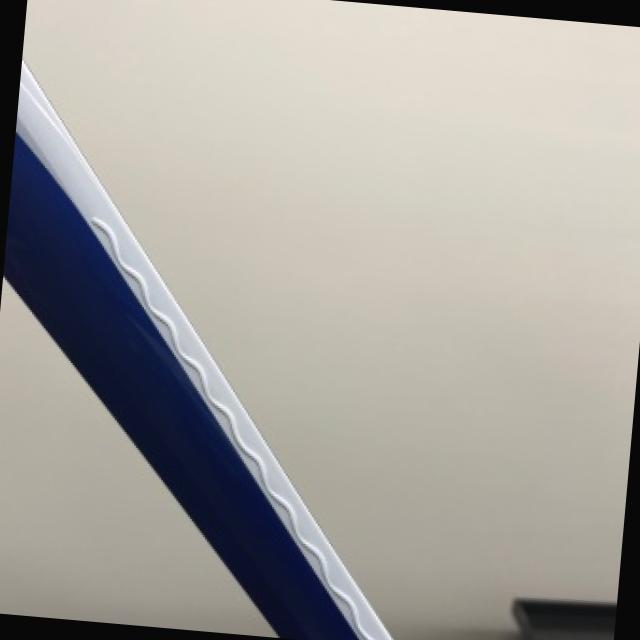healthy: (511, 595, 615, 640)
